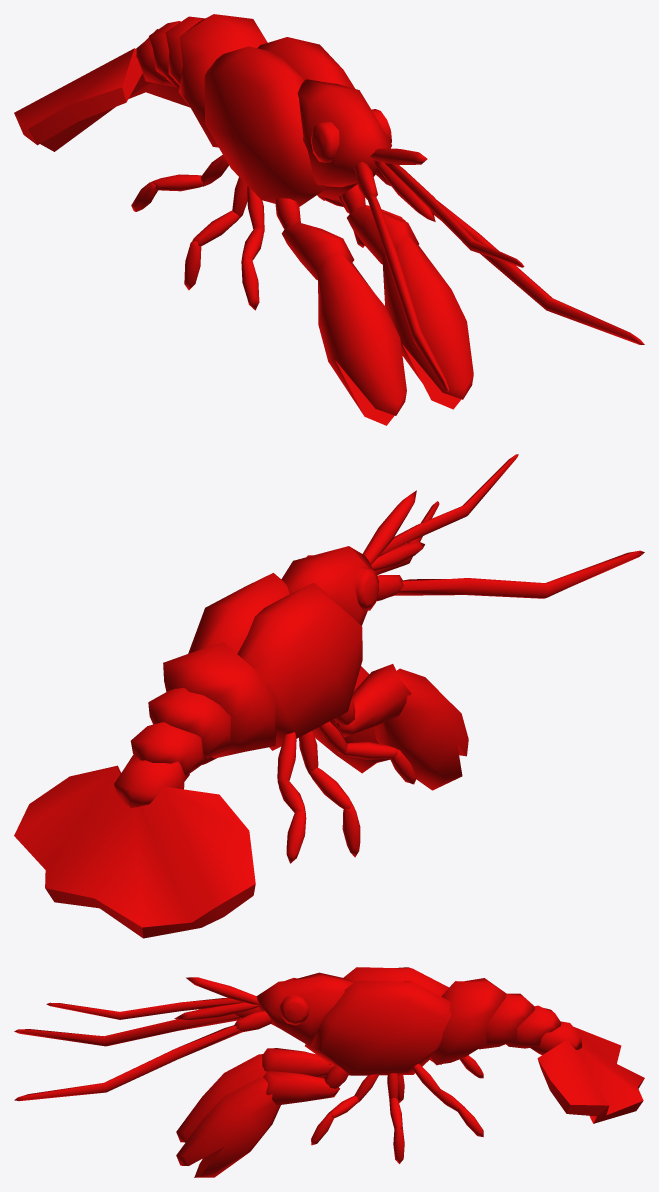
The picture shows the model from 3 angles, top to bottom: view 1: azimuth 30°, elevation 25°; view 2: azimuth 150°, elevation 25°; view 3: azimuth 270°, elevation 25°; orthographic projection. The views are drawn at different scales.
Parts seen in each view (by area): view 1: Fish_Crawfish; view 2: Fish_Crawfish; view 3: Fish_Crawfish.
Boxes of the visible parts, <box> form: Fish_Crawfish: <box>14,14,644,425</box>; Fish_Crawfish: <box>14,454,644,938</box>; Fish_Crawfish: <box>14,967,644,1177</box>.
Size of the model in its own units: 0.0925 by 0.1052 by 0.313.
